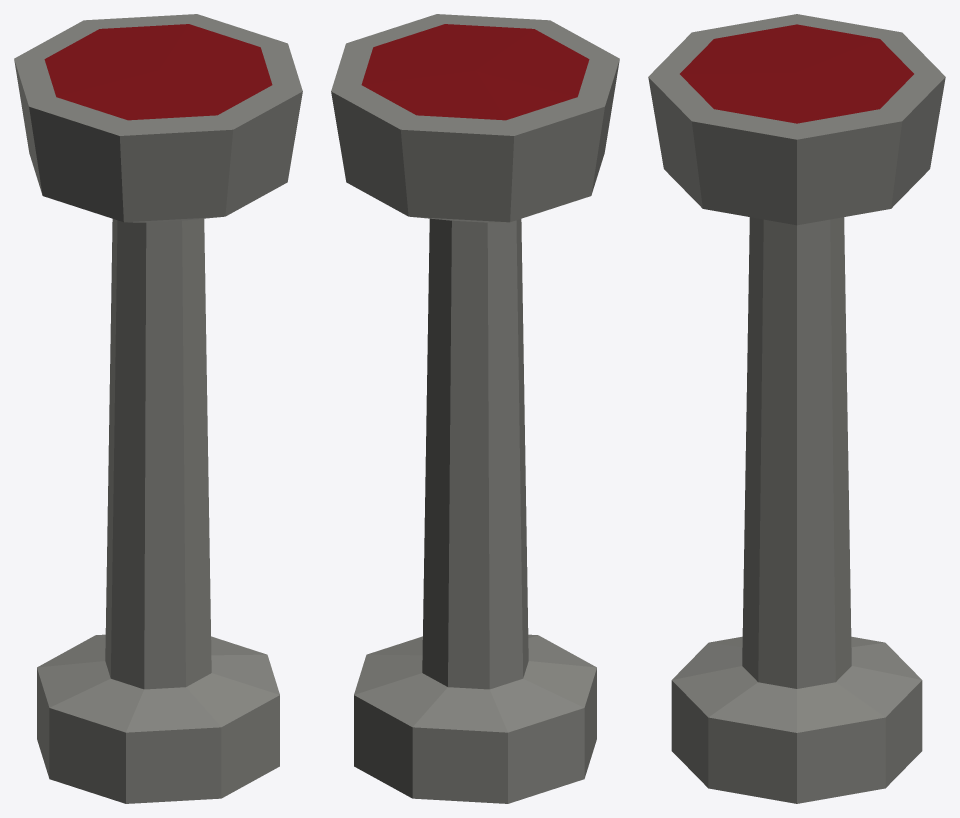
File: Font.fbx
3 renders of one model, left to right at view 1: azimuth 30°, elevation 25°; view 2: azimuth 150°, elevation 25°; view 3: azimuth 270°, elevation 25°, orthographic.
Visible parts, largest first — view 1: Font; view 2: Font; view 3: Font.
Part boxes in pixels (x1=…): Font: x1=14, y1=14, x2=302, y2=803; Font: x1=331, y1=14, x2=619, y2=803; Font: x1=648, y1=14, x2=945, y2=803.
Bounding box in the file's own units: 0.38 × 0.956 × 0.38.
